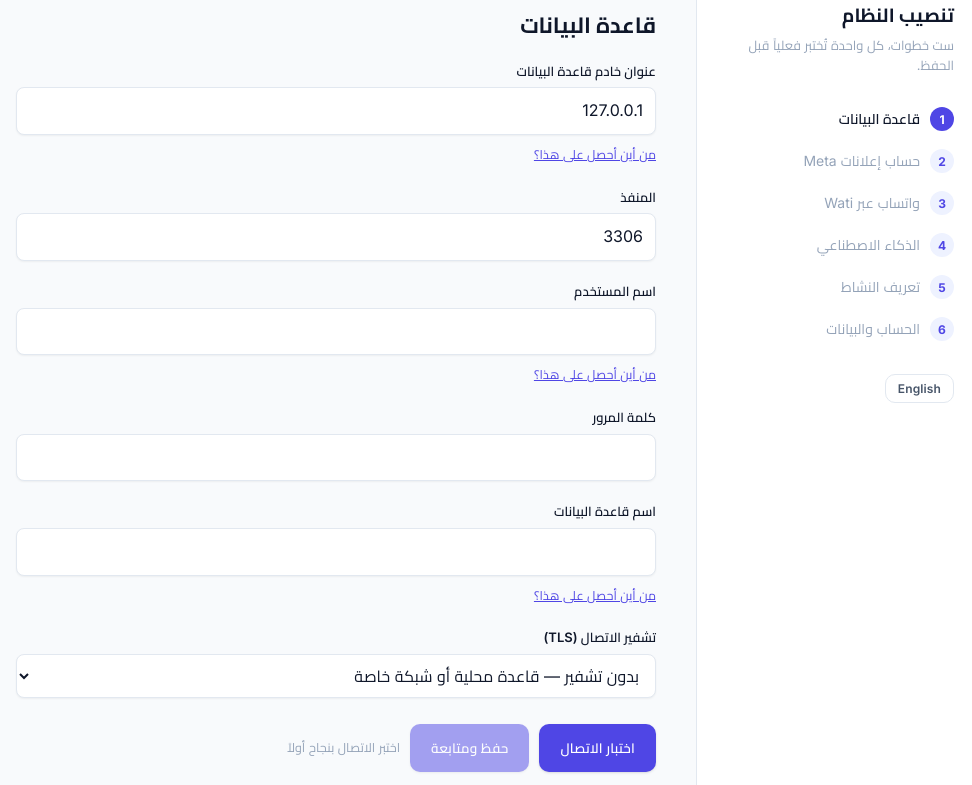
Test: the wizard does not proceed on an unverified claim › stops and reports when claiming fails for a reason other than a conflict
Step 1. Click the button "اختبار الاتصال" → (598, 748), box [540, 724, 656, 772]
(page scrolled)
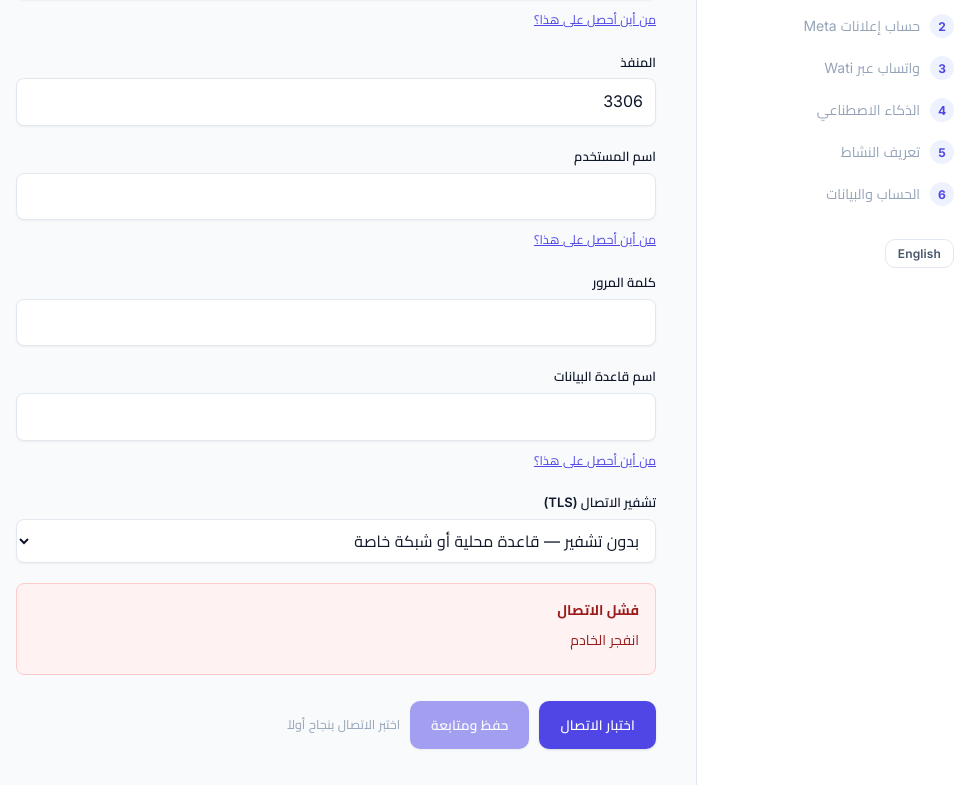
Check: the text "انفجر الخادم" is shown, box [570, 631, 639, 648]
